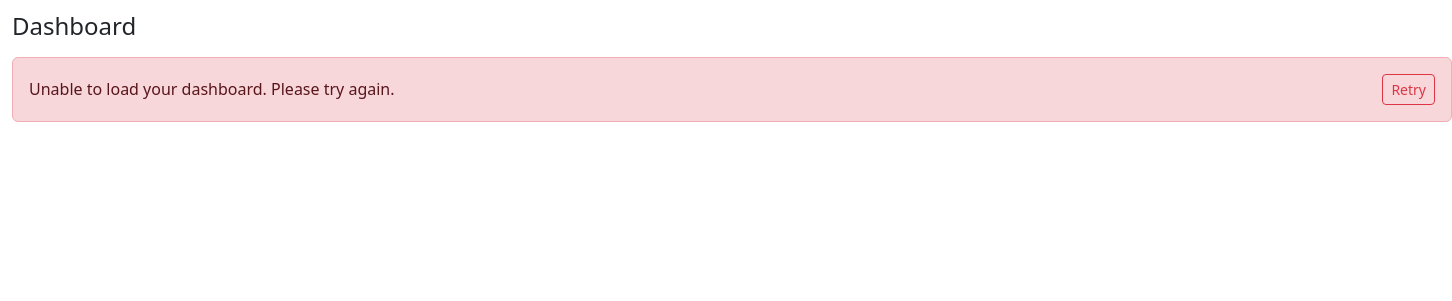
Test case: StaffDashboard (UI-07, UI-08, UI-09) › shows a loading state, then a safe failure banner with Retry (Sec. 4 ui-spec)
The width and height of the screenshot is (1452, 301).
Later steps or results of the test are not shown.
Expected: the text "Unable to load your dashboard. Please try again." is shown, [29,77,394,101]
Click the button "Retry". click: x=1409, y=89
box: [1382,74,1435,105]
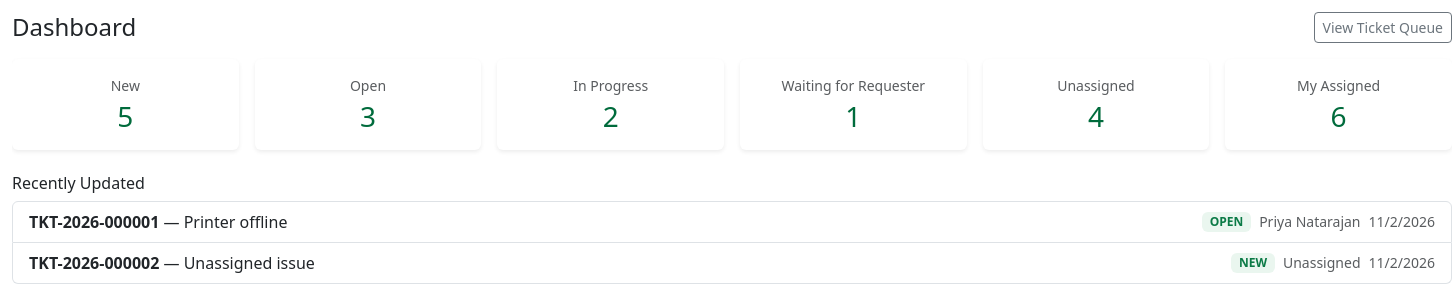
Expected: the text "5" is shown, [117,97,133,135]
